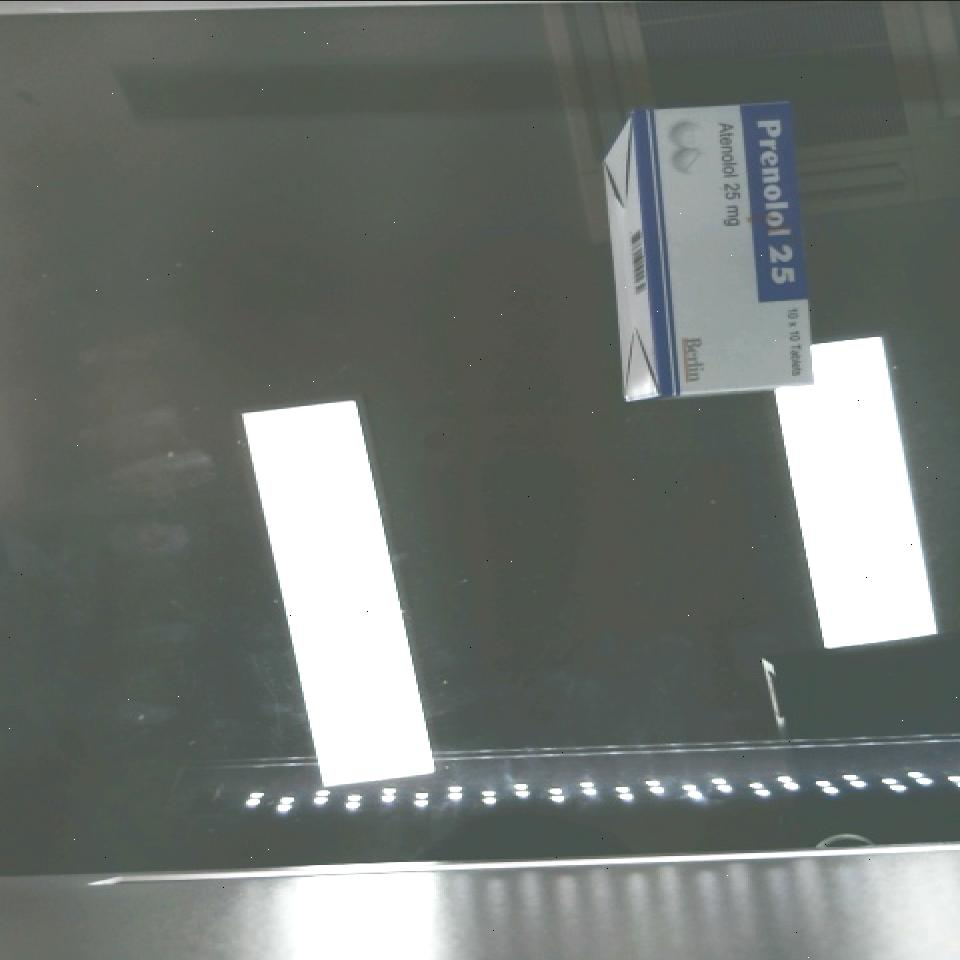medicine_box: (631, 94, 812, 399)
medicine_label_obb: (742, 103, 806, 303)
